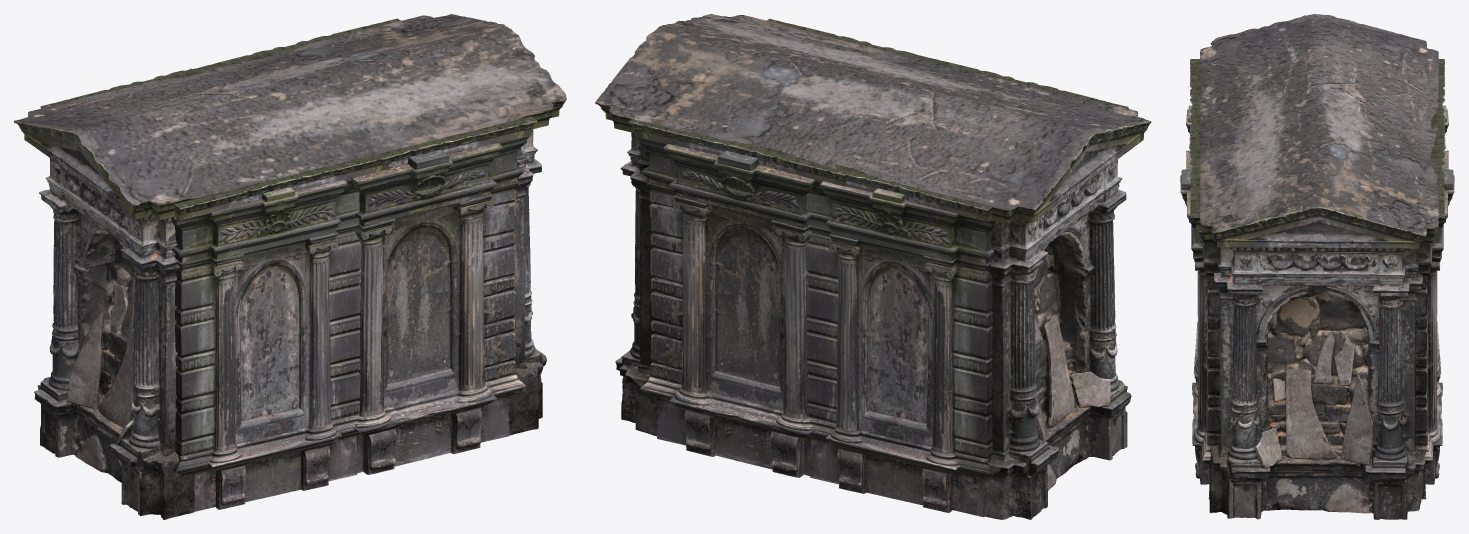
File: sm_Grave_04_03.fbx
The picture shows the model from 3 angles, left to right: view 1: azimuth 30°, elevation 25°; view 2: azimuth 150°, elevation 25°; view 3: azimuth 270°, elevation 25°; orthographic projection. The views are drawn at different scales.
Parts seen in each view (by area): view 1: sm_Grave_04_03_LOD0; view 2: sm_Grave_04_03_LOD0; view 3: sm_Grave_04_03_LOD0.
Boxes of the visible parts, x1=… form: sm_Grave_04_03_LOD0: x1=14, y1=14, x2=566, y2=519; sm_Grave_04_03_LOD0: x1=595, y1=14, x2=1151, y2=519; sm_Grave_04_03_LOD0: x1=1180, y1=14, x2=1454, y2=519.
Bounding box in the file's own units: 440 × 262 × 337.
